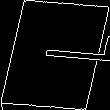L_W: (10, 36, 100, 74)
